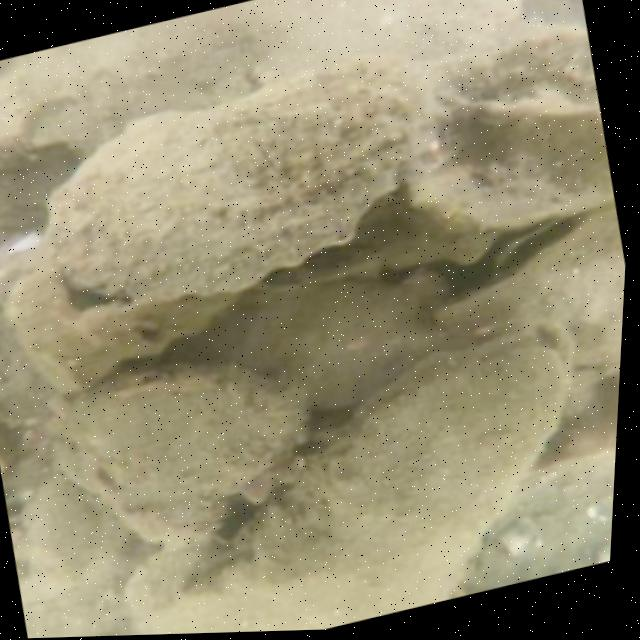Oyster-Closed: (247, 319, 574, 608)
Oyster-Indeterminate: (40, 59, 440, 305), (53, 365, 299, 543), (188, 283, 429, 415), (443, 213, 623, 372)
